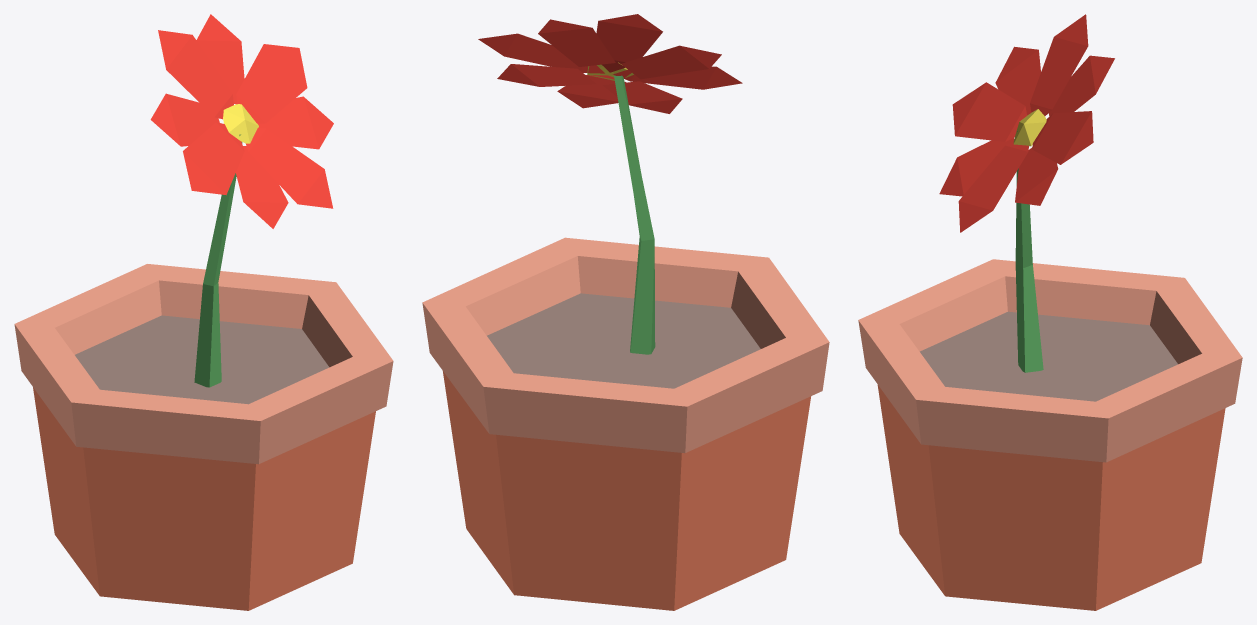
The model's file is Plants_M16.fbx.
The picture shows the model from 3 angles, left to right: view 1: azimuth 30°, elevation 25°; view 2: azimuth 150°, elevation 25°; view 3: azimuth 270°, elevation 25°; orthographic projection. The views are drawn at different scales.
Visible parts, largest first — view 1: Plants_M16; view 2: Plants_M16; view 3: Plants_M16.
Part boxes in pixels (x1,y1,x2,y2): Plants_M16: (14, 14, 393, 610); Plants_M16: (422, 14, 829, 610); Plants_M16: (858, 14, 1242, 610).
Size of the model in its own units: 0.1228 by 0.1871 by 0.1252.
1 material, 1 textured.
